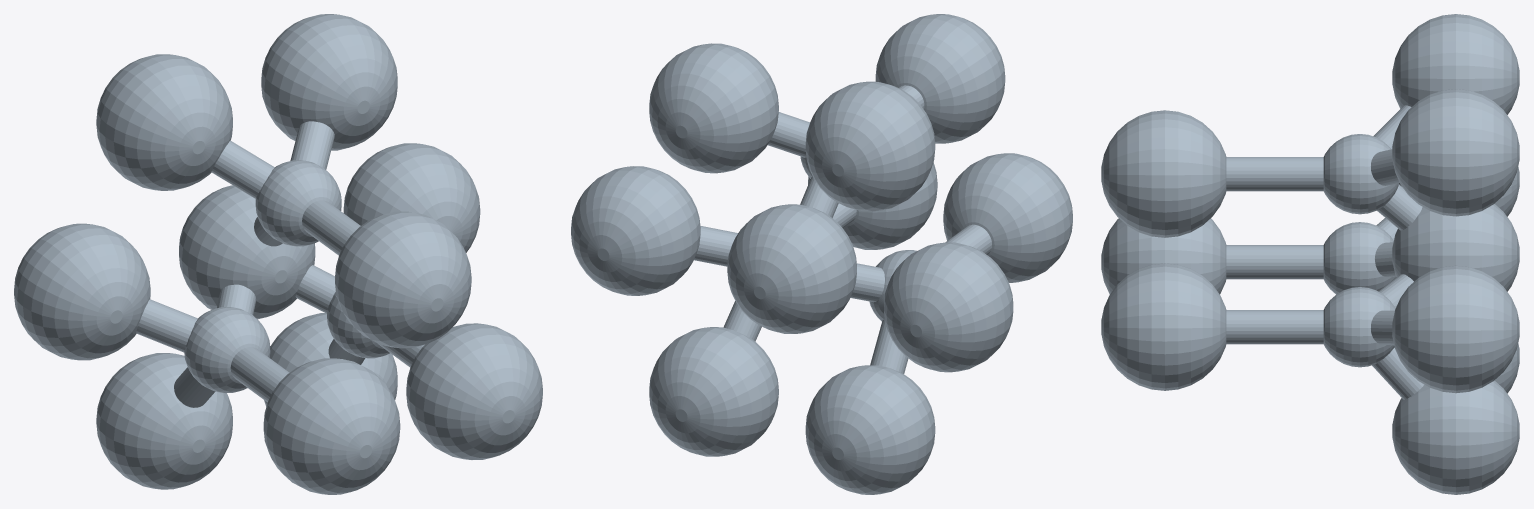
Rendered from crystal-silicon-carbide-2h-nih-material-fixed.glb.
3 renders of one model, left to right at view 1: azimuth 30°, elevation 25°; view 2: azimuth 150°, elevation 25°; view 3: azimuth 270°, elevation 25°, orthographic. The views are drawn at different scales.
Parts seen in each view (by area): view 1: Silicone%20Carbide%20Crystal_0.stl; view 2: Silicone%20Carbide%20Crystal_0.stl; view 3: Silicone%20Carbide%20Crystal_0.stl.
Boxes of the visible parts, x1,y1,x2,y2 form: Silicone%20Carbide%20Crystal_0.stl: (14, 14, 542, 494); Silicone%20Carbide%20Crystal_0.stl: (571, 14, 1072, 494); Silicone%20Carbide%20Crystal_0.stl: (1101, 14, 1519, 494).
Bounding box in the file's own units: 167 × 151 × 145.
